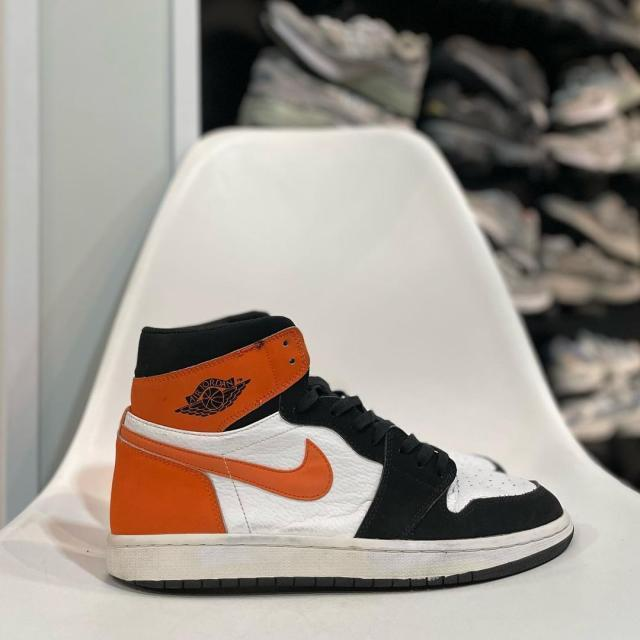nike fake jordan 1: (104, 315, 582, 593)
